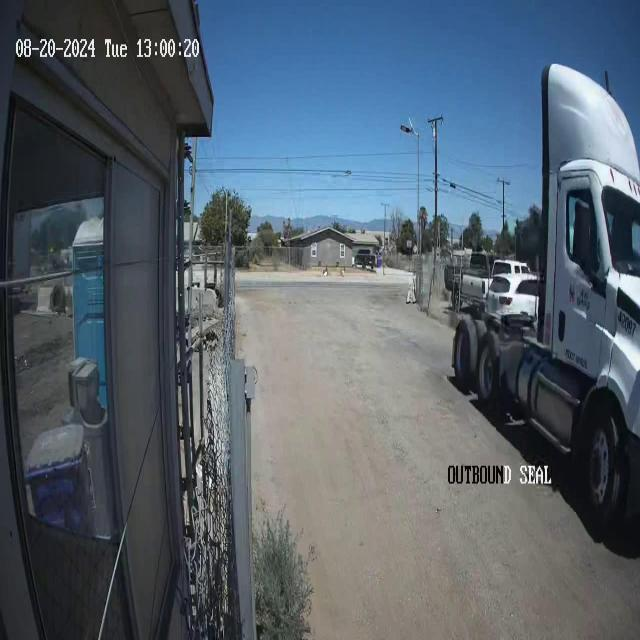TRUCK_IN: (448, 61, 639, 538)
